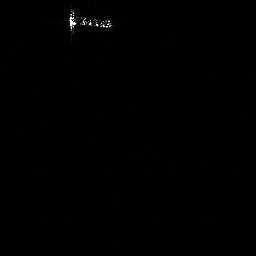ship: (67, 9, 113, 32)
